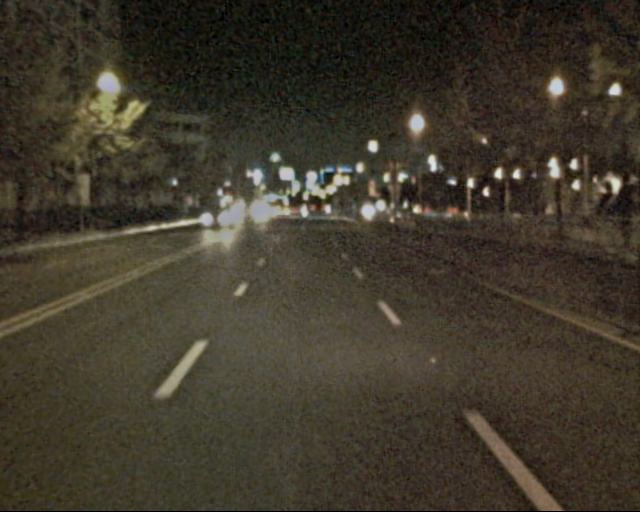person: (593, 177, 637, 251)
